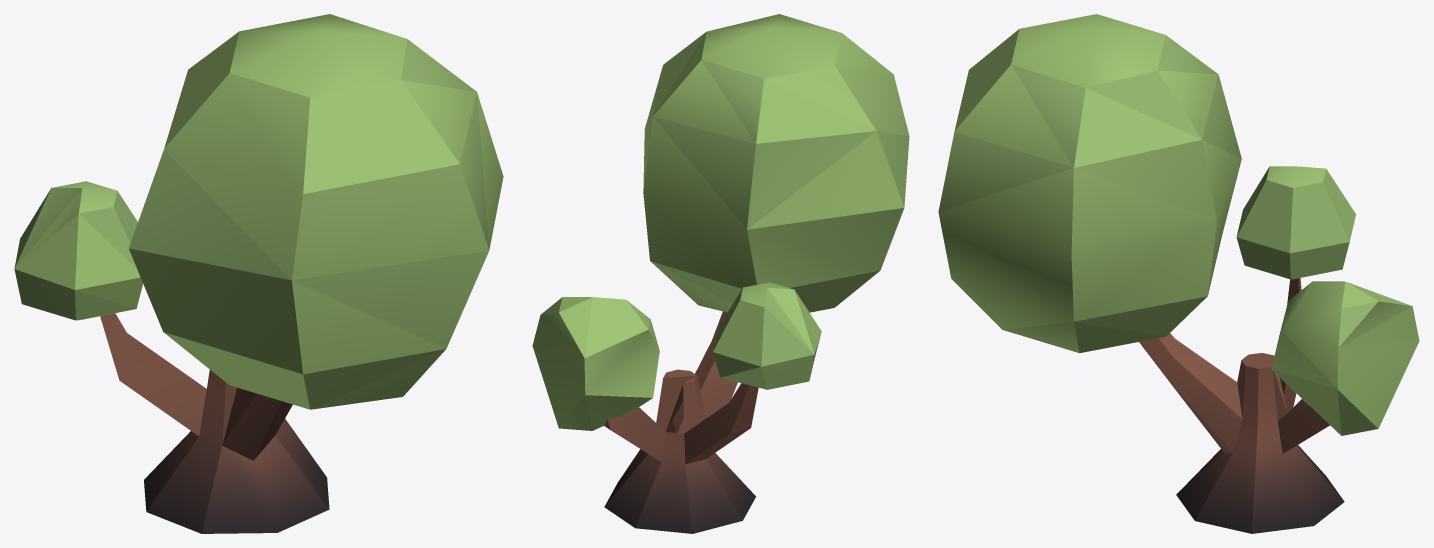
The model's file is roundtree.fbx.
The picture shows the model from 3 angles, left to right: view 1: azimuth 30°, elevation 25°; view 2: azimuth 150°, elevation 25°; view 3: azimuth 270°, elevation 25°; orthographic projection. The views are drawn at different scales.
Visible parts, largest first — view 1: polySurface47; view 2: polySurface47; view 3: polySurface47.
Boxes of the visible parts, x1,y1,x2,y2 form: polySurface47: (14, 14, 503, 533); polySurface47: (532, 14, 909, 533); polySurface47: (938, 14, 1419, 533).
Bounding box in the file's own units: 30.54 × 44.53 × 42.02.
